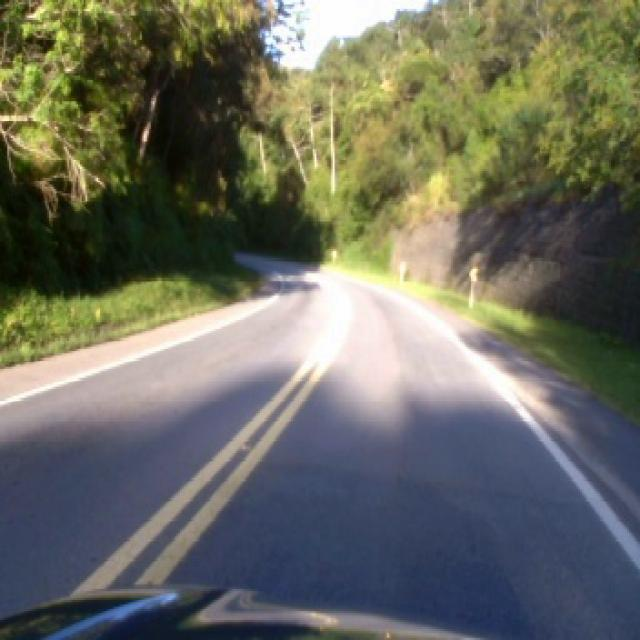Poth-hole: (238, 442, 249, 449)
